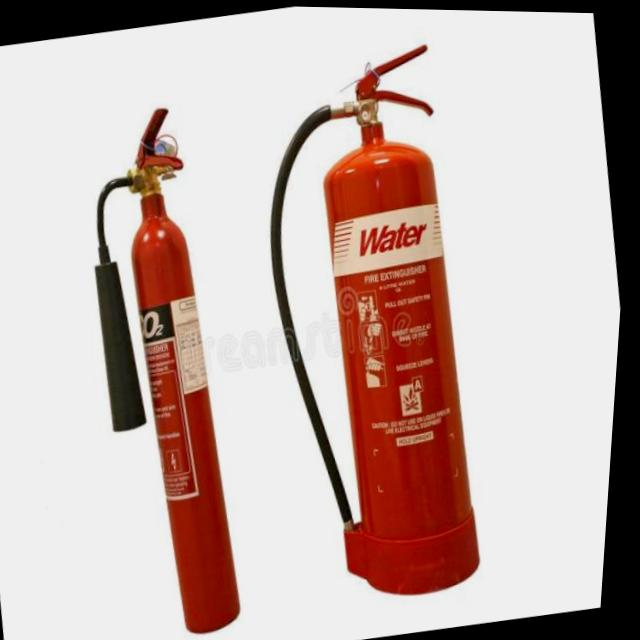FireExtinguisher: (222, 26, 527, 619), (48, 91, 281, 640)
